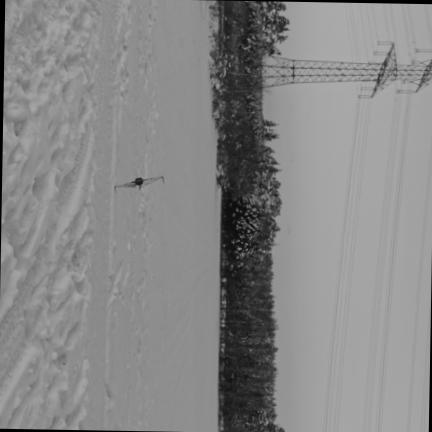Shahed: (112, 176, 163, 192)
